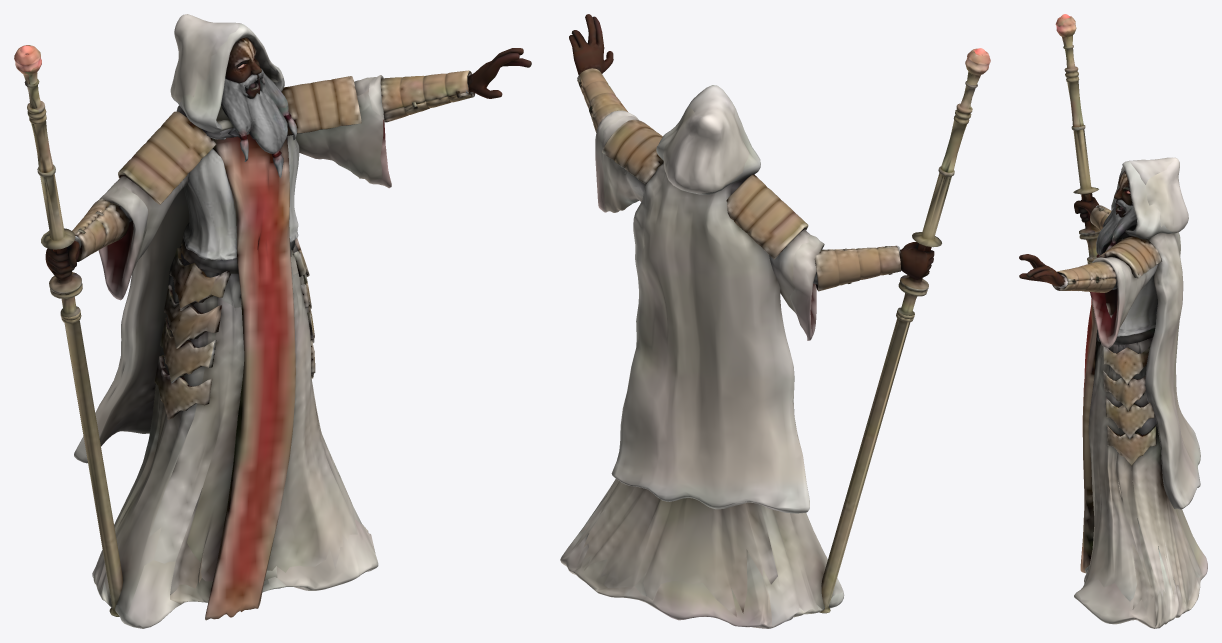
File: MZ4250 - Archpriest Male_1 2025.glb
3 views of the same model, side by side, from view 1: azimuth 30°, elevation 25°; view 2: azimuth 150°, elevation 25°; view 3: azimuth 270°, elevation 25° (orthographic). The views are drawn at different scales.
Visible parts, largest first — view 1: Body.002; view 2: Body.002; view 3: Body.002.
Boxes of the visible parts, x1,y1,x2,y2 form: Body.002: (14, 14, 531, 628); Body.002: (560, 14, 990, 628); Body.002: (1019, 14, 1207, 628).
Bounding box in the file's own units: 83.74 × 104 × 37.4.
Materials: 3 (3 with a texture image).
